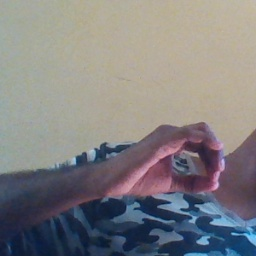O: (101, 120, 231, 204)
